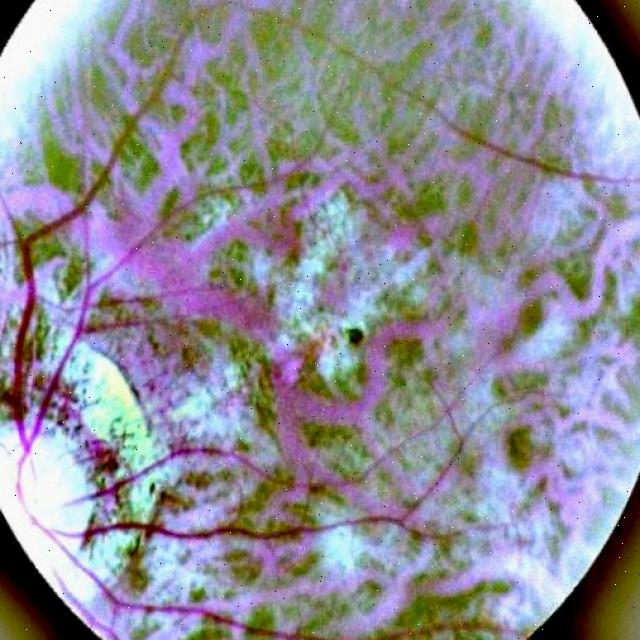Macula: (330, 306, 385, 368)
Nerves: (7, 260, 291, 630), (39, 212, 99, 424)
Optic Disk: (0, 294, 161, 609)
